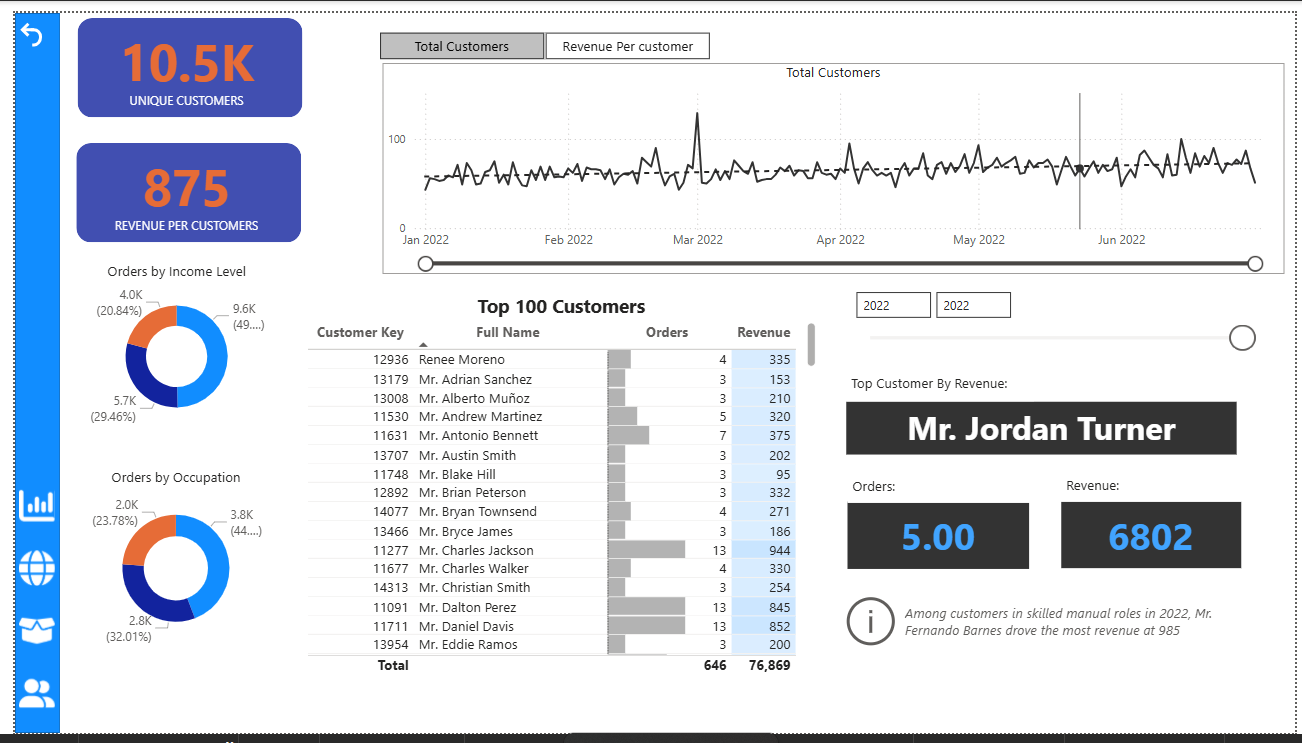

What the dashboard file says about the page in this screenshot:
{"tool":"powerbi","page":{"name":"Customer Detail","canvas":[1280,720],"ordinal":1},"visuals":[{"type":"shape","box":[0,0,45,720],"z":0},{"type":"actionButton","box":[0,461.2,43.8,62.5],"z":0,"group":"g1"},{"type":"shape","box":[62.5,5.3,225.2,99.5],"z":1000},{"type":"actionButton","box":[0,523.7,43.8,62.5],"z":1000,"group":"g1"},{"type":"actionButton","box":[0,586.2,43.8,62.5],"z":2000,"group":"g1"},{"type":"shape","box":[61.3,129.7,225.2,99.5],"z":2000},{"type":"card","fields":{"Values":["Measure Table.Average Revenue Per customer"]},"box":[57.8,129.7,228.6,100],"z":3000},{"type":"actionButton","box":[0,648.7,43.8,62.5],"z":3000,"group":"g1"},{"type":"card","fields":{"Values":["Measure Table.Total Customers"]},"box":[57.8,5.5,228.6,100],"z":4000},{"type":"lineChart","fields":{"Y":["Measure Table.Total Customers"],"Category":["Calendar Lookup.Year","Calendar Lookup.Start of Month","Calendar Lookup.Start of Week","Calendar Lookup.Date"]},"box":[367.6,49.4,901.7,211.4],"z":5000},{"type":"donutChart","title":"Orders by Income Level","fields":{"Y":["Measure Table.Total Orders"],"Category":["Product Categories Lookup.CategoryName"]},"box":[65.7,249,191.1,172.2],"z":6000},{"type":"donutChart","title":"Orders by Occupation","fields":{"Y":["Measure Table.Total Orders"],"Category":["Customer Lookup.Occupation"]},"box":[64.5,454.8,192.2,183.3],"z":7000},{"type":"tableEx","title":"Top 100 Customers","fields":{"Values":["Customer Lookup.CustomerKey","Customer Lookup.Full Name","Measure Table.Total Orders","Measure Table.Total Revenue"]},"box":[286.8,280.2,519.8,385.7],"z":8000},{"type":"card","fields":{"Values":["Customer Lookup.Full Name (Customer Detail)"]},"box":[831.4,388.8,390.6,52.8],"z":9000},{"type":"card","fields":{"Values":["Measure Table.Total Orders (Customer Detail)"]},"box":[831.9,488.8,181.2,67.5],"z":10000},{"type":"card","fields":{"Values":["Measure Table.Total Revenue (Customer Detail)"]},"box":[1046.1,488.8,180,66.7],"z":11000},{"type":"textbox","box":[831.4,356.6,187.2,32.2],"z":12000},{"type":"textbox","box":[832.1,458.6,187.2,31],"z":13000},{"type":"textbox","box":[1045.8,457.5,187.2,31],"z":14000},{"type":"slicer","fields":{"Values":["Calendar Lookup.Year"]},"box":[828.6,268.1,419.8,80.2],"z":15000},{"type":"actionButton","box":[825.3,576.9,425.3,61.5],"z":16000},{"type":"actionButton","box":[0,5.5,35.2,33],"z":17000},{"type":"group","id":"g1","title":"Navigation buttons ","box":[0,461.2,43.8,250],"z":18000},{"type":"slicer","fields":{"Values":["Customer Metric Selection.Customer Metric Selection"]},"box":[338.9,12.6,380.2,36.8],"z":18501}]}

Visuals, with their boxes on the page's 1280x720 design canvas (x1, y1, x2, y2). These are canvas units, not pixel positions in the 1302x743 screenshot, which may show the page scaled, cropped or inside an application window:
shape: (0,0,45,720)
actionButton: (0,461,44,524)
shape: (62,5,288,105)
actionButton: (0,524,44,586)
actionButton: (0,586,44,649)
shape: (61,130,286,229)
card - Measure Table.Average Revenue Per customer: (58,130,286,230)
actionButton: (0,649,44,711)
card - Measure Table.Total Customers: (58,6,286,106)
lineChart - Measure Table.Total Customers x Calendar Lookup.Year: (368,49,1269,261)
"Orders by Income Level" donutChart: (66,249,257,421)
"Orders by Occupation" donutChart: (64,455,257,638)
"Top 100 Customers" tableEx: (287,280,807,666)
card - Customer Lookup.Full Name (Customer Detail): (831,389,1222,442)
card - Measure Table.Total Orders (Customer Detail): (832,489,1013,556)
card - Measure Table.Total Revenue (Customer Detail): (1046,489,1226,556)
textbox: (831,357,1019,389)
textbox: (832,459,1019,490)
textbox: (1046,458,1233,488)
slicer - Calendar Lookup.Year: (829,268,1248,348)
actionButton: (825,577,1251,638)
actionButton: (0,6,35,38)
"Navigation buttons " group: (0,461,44,711)
slicer - Customer Metric Selection.Customer Metric Selection: (339,13,719,49)
